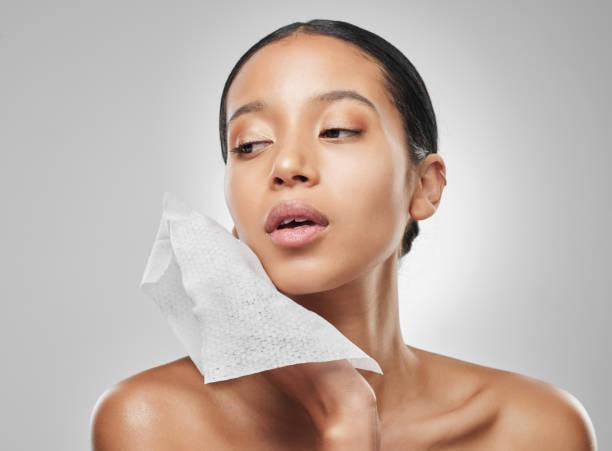Dry-Skin: (270, 65, 348, 131), (316, 165, 390, 229), (276, 260, 316, 294), (234, 194, 264, 234)
